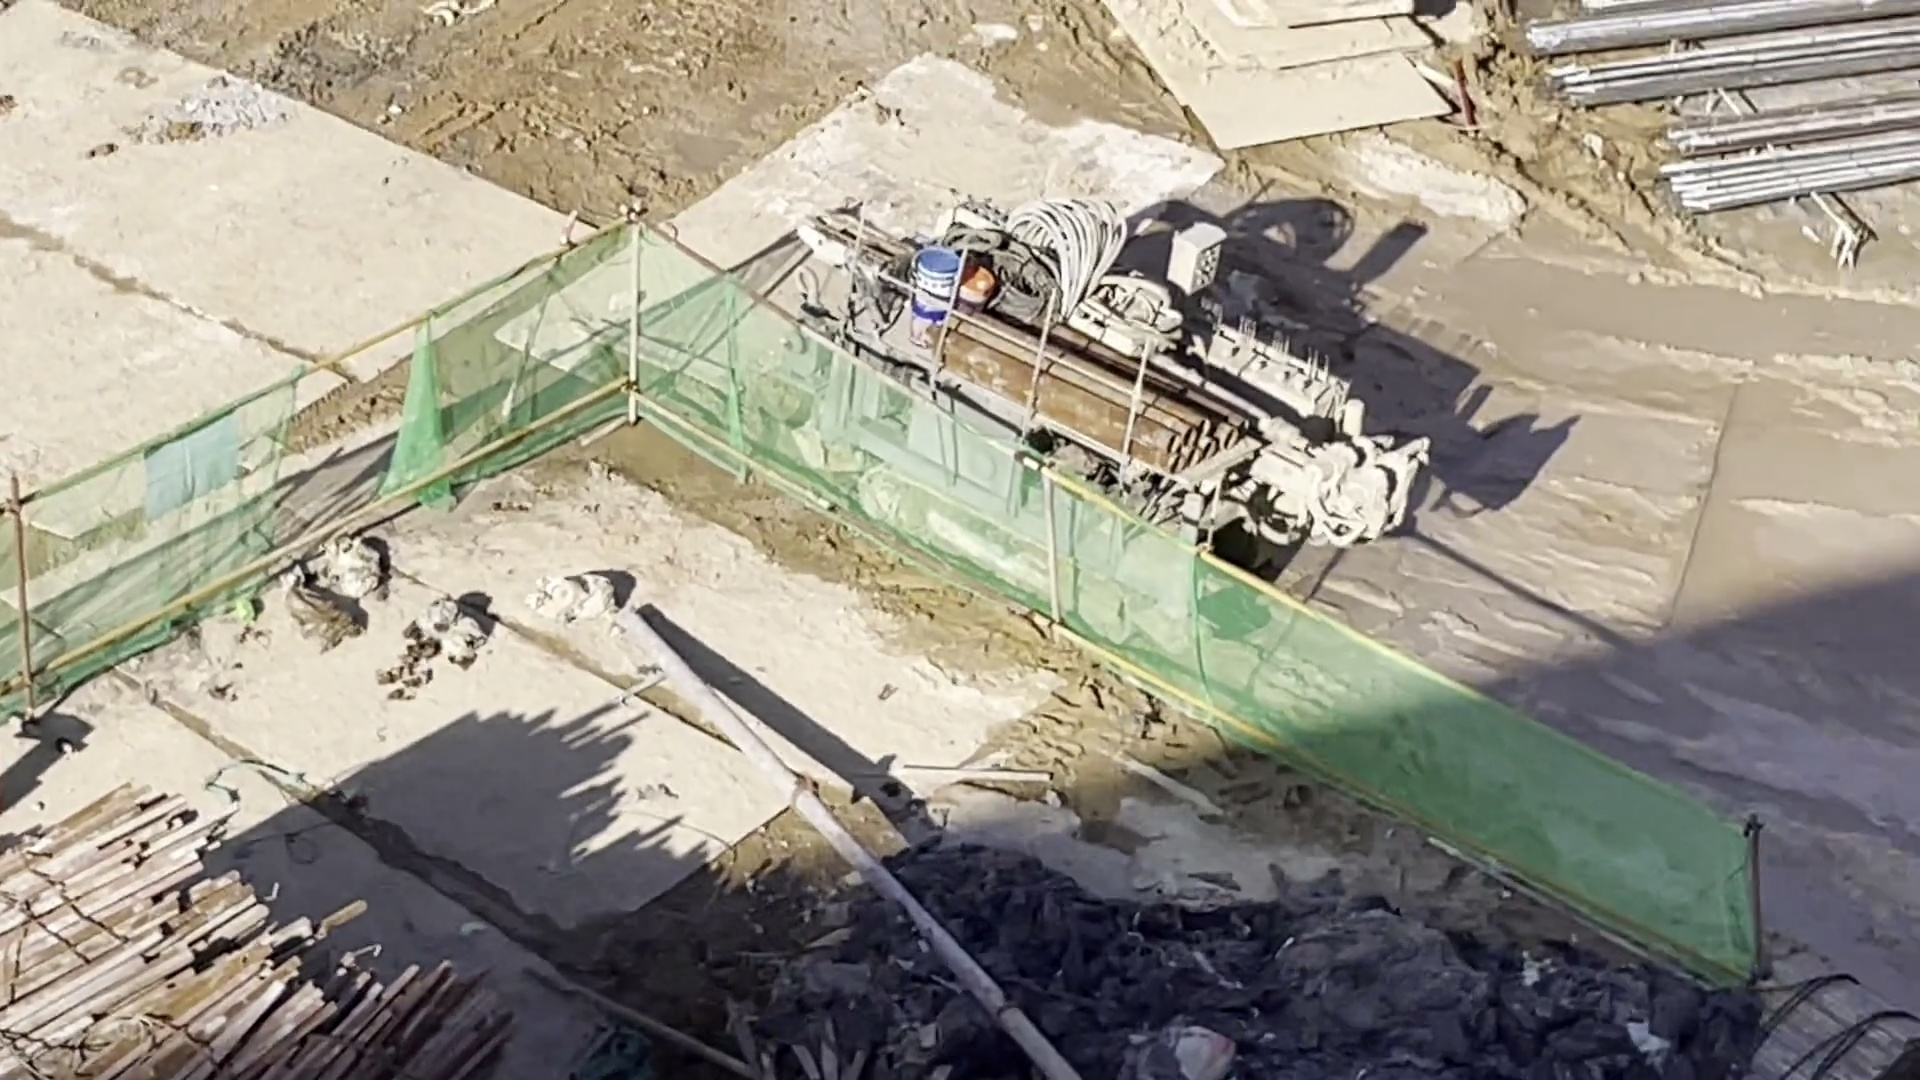wood: (18, 771, 524, 1080)
